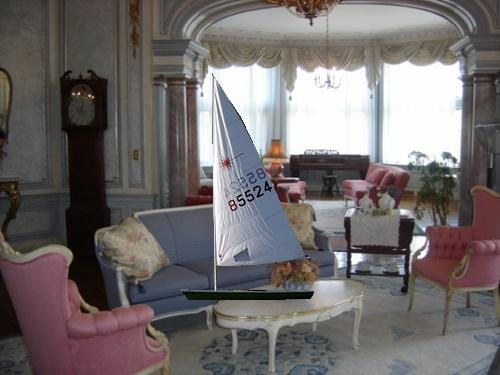tampered: (182, 74, 314, 300)
